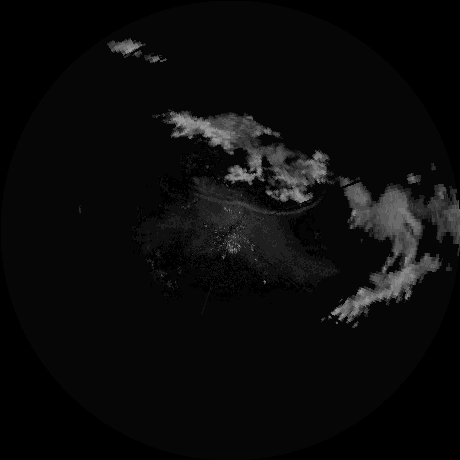frontgust: (202, 195, 314, 216)
